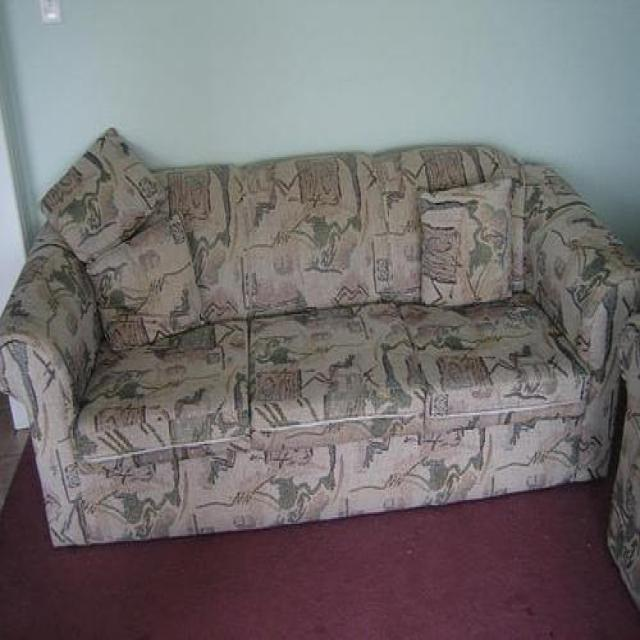sofa: (0, 125, 639, 550)
